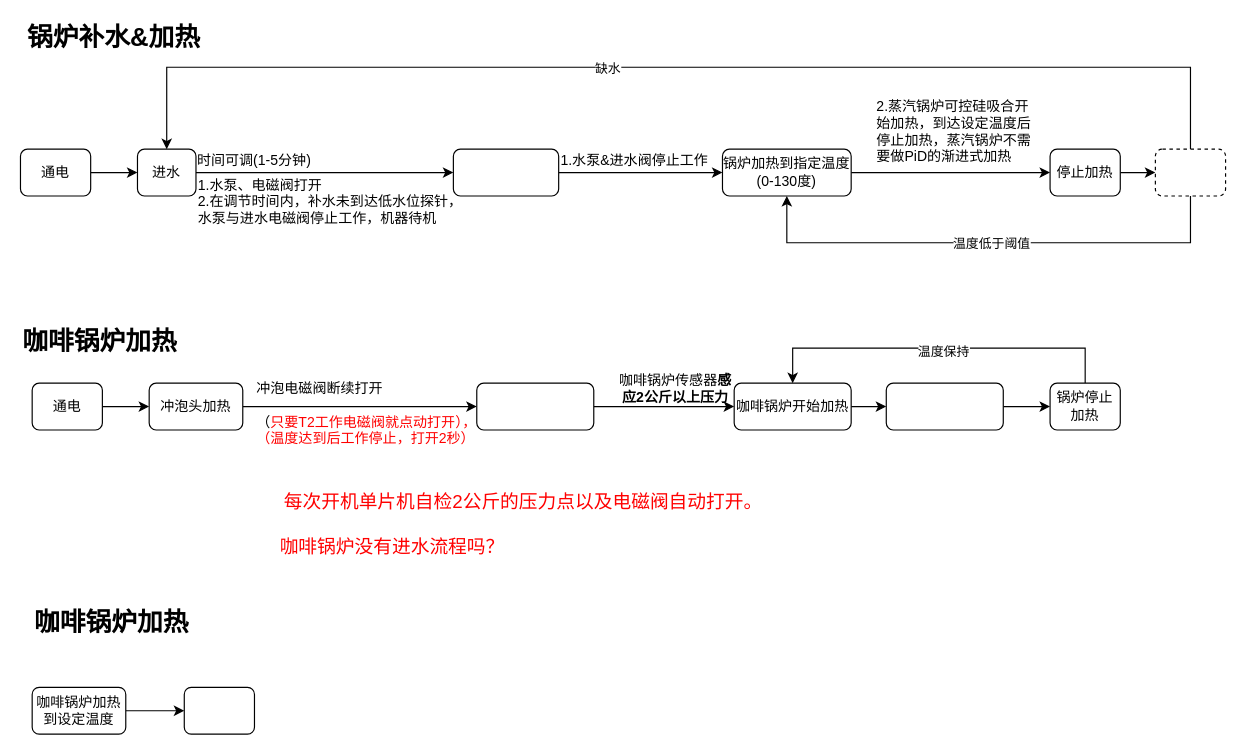
Some shapes in this 1246 by 755 pixel diagram are drawn without their labels. Each missing label, with the centre of its shape:
冲泡头加热完成: the point at 535,406
到达水位: the point at 505,172
到达设定温度 (0-100度): the point at 944,406
按键触发自动咖啡: the point at 218,710
机器正常工作: the point at 1190,172
